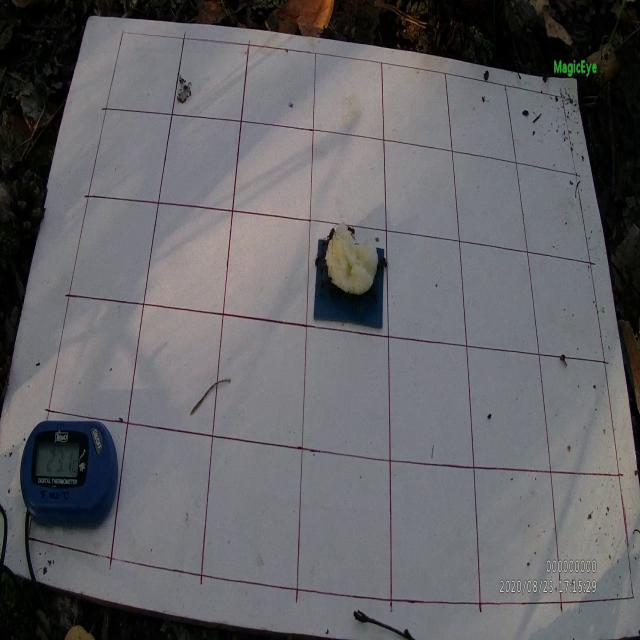Ant: (313, 250, 328, 266)
